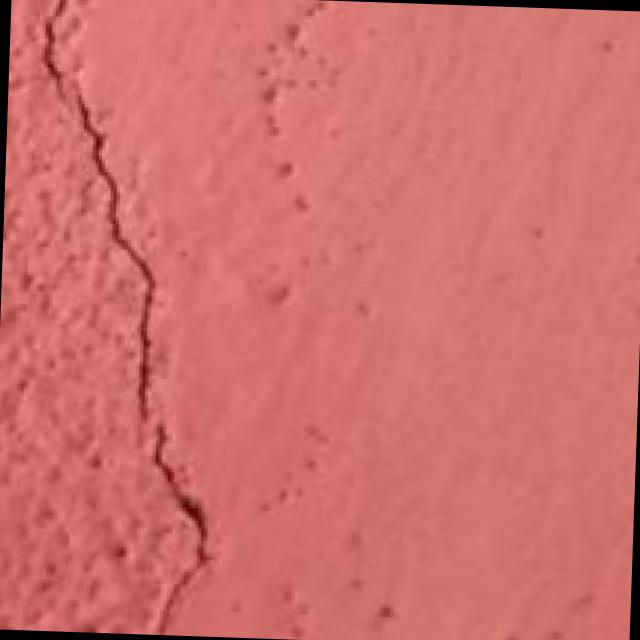crack: (2, 0, 280, 635)
